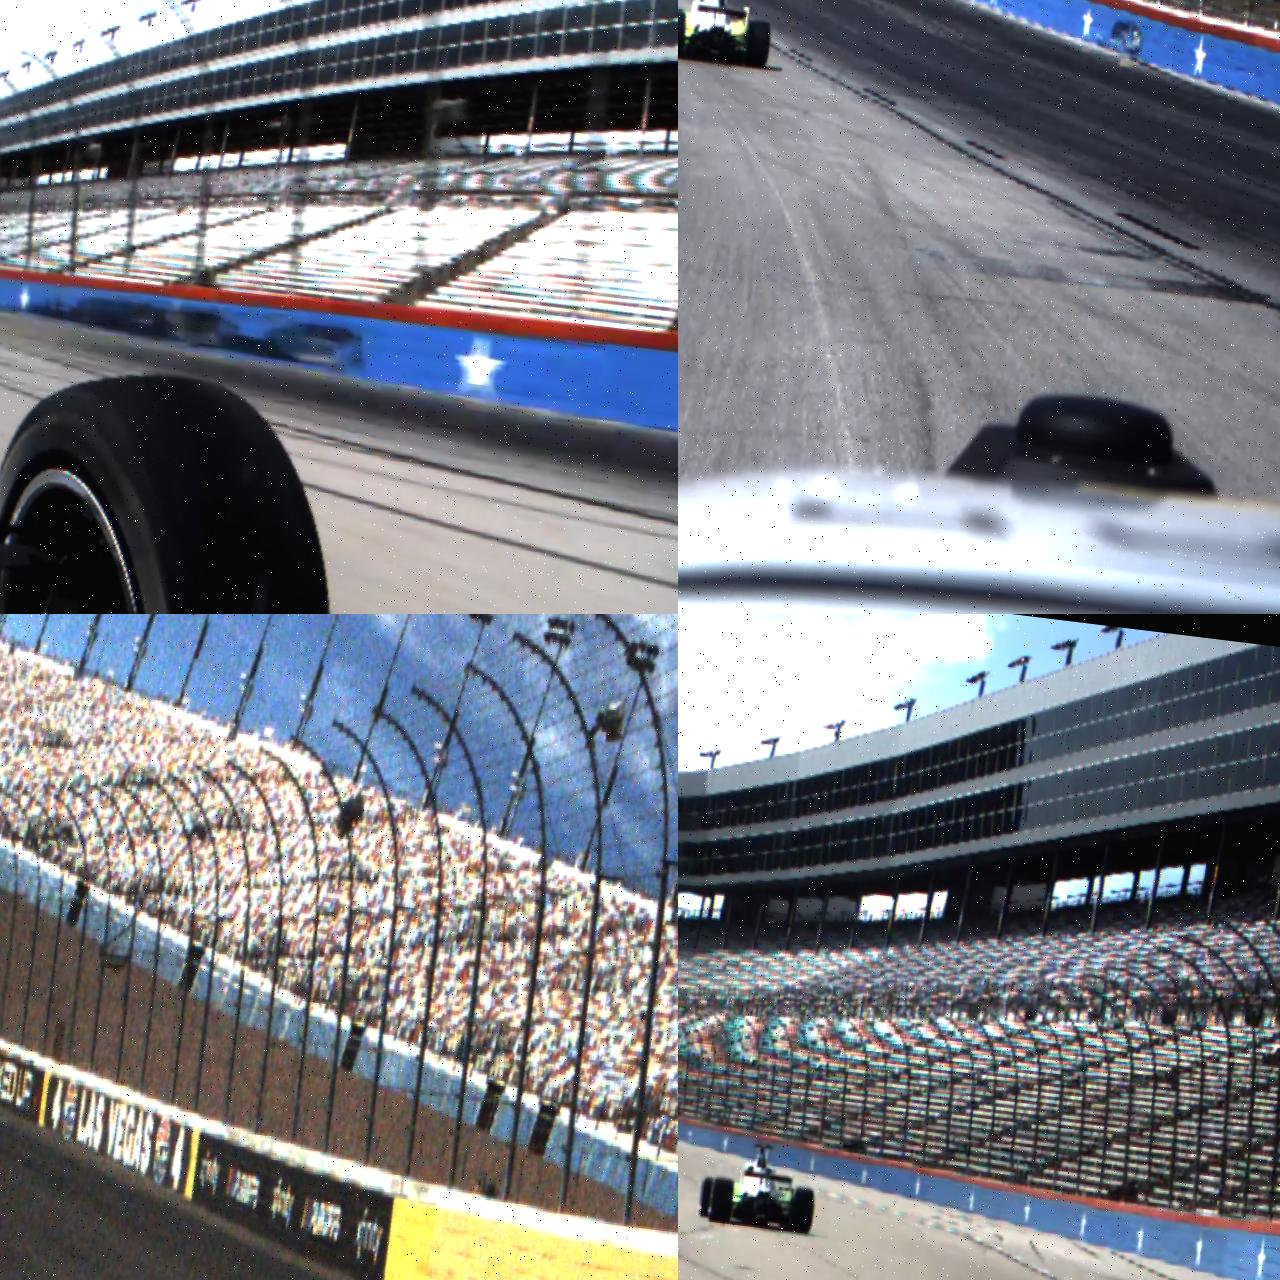AV: (697, 1137, 821, 1235), (678, 0, 777, 70)
Wheel: (0, 356, 363, 614), (789, 1185, 817, 1234), (744, 20, 772, 68), (709, 1176, 735, 1224), (697, 1177, 717, 1219), (678, 11, 687, 59)
